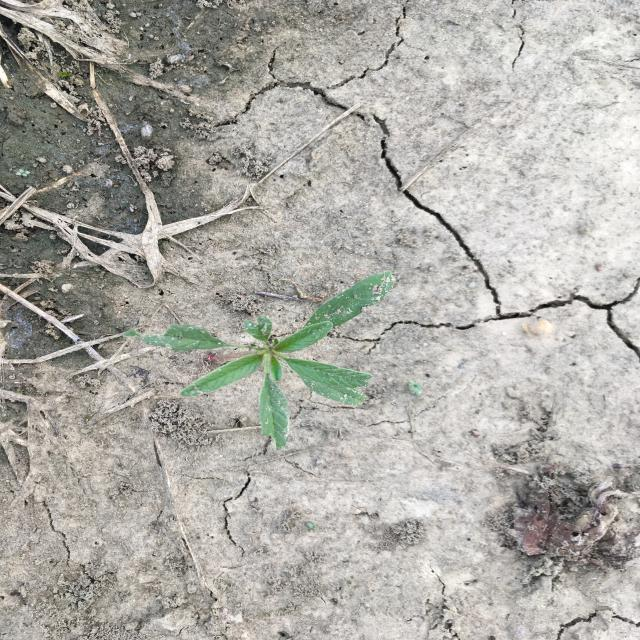Waterhemp: (118, 271, 399, 449)
